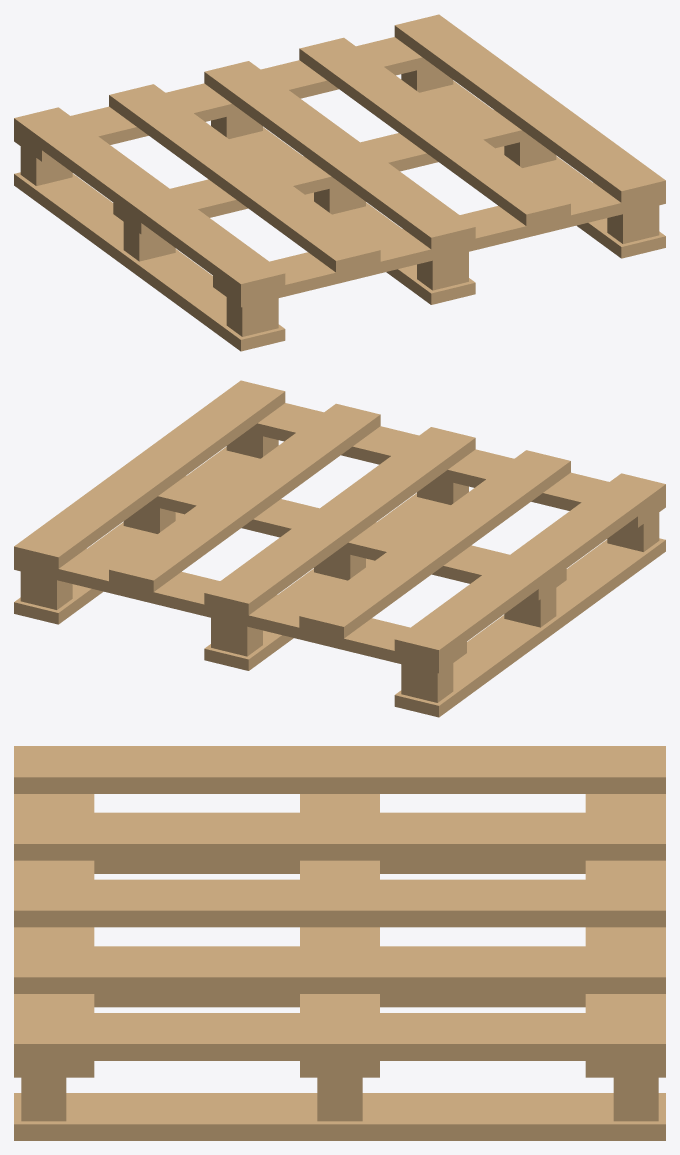
File: Prop_Junk_Pallet_Wooden_02.FBX
3 renders of one model, top to bottom at view 1: azimuth 30°, elevation 25°; view 2: azimuth 150°, elevation 25°; view 3: azimuth 270°, elevation 25°, orthographic. The views are drawn at different scales.
Parts seen in each view (by area): view 1: Prop_Junk_Pallet_Wooden_02; view 2: Prop_Junk_Pallet_Wooden_02; view 3: Prop_Junk_Pallet_Wooden_02.
Part boxes in pixels (x1=…): Prop_Junk_Pallet_Wooden_02: x1=14, y1=14, x2=665, y2=351; Prop_Junk_Pallet_Wooden_02: x1=14, y1=380, x2=665, y2=717; Prop_Junk_Pallet_Wooden_02: x1=14, y1=746, x2=665, y2=1140.
Bounding box in the file's own units: 1469 × 222 × 1358.
